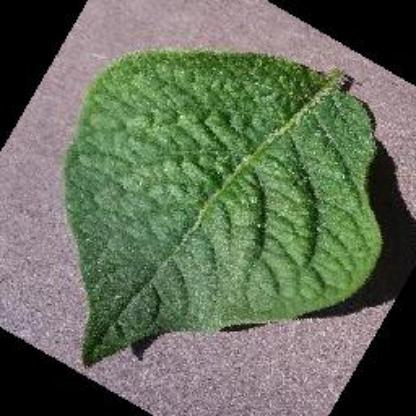Healthy-plant: (50, 39, 386, 367)
